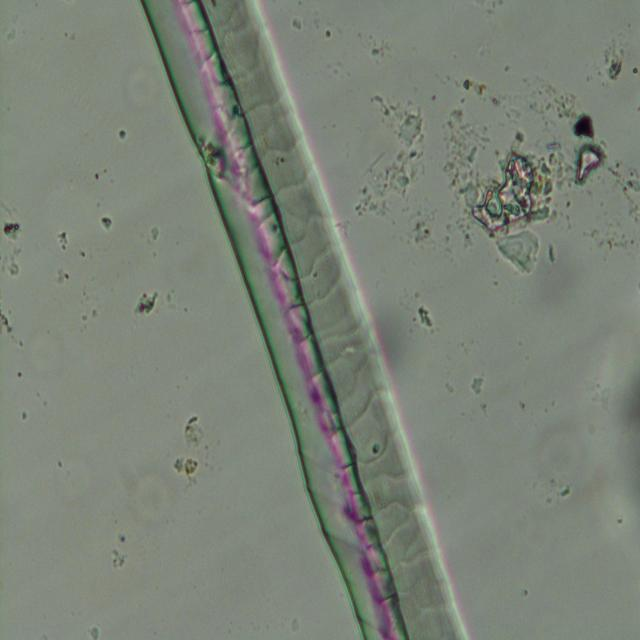Background material: (444, 107, 569, 278), (351, 86, 431, 216), (449, 66, 573, 118), (597, 146, 640, 261), (565, 104, 607, 191), (124, 465, 178, 530), (111, 52, 163, 114), (47, 440, 95, 496), (173, 414, 211, 484), (27, 322, 69, 381), (56, 265, 96, 326), (542, 426, 586, 479), (607, 376, 640, 441), (0, 207, 26, 279), (527, 464, 571, 506), (600, 34, 628, 84), (358, 32, 394, 64), (131, 286, 161, 318), (108, 528, 130, 571), (0, 306, 22, 347), (412, 303, 436, 329), (320, 21, 338, 39), (111, 127, 129, 145), (98, 214, 114, 234), (470, 376, 485, 397), (57, 229, 70, 253), (17, 404, 33, 422), (147, 225, 163, 243), (289, 14, 303, 32), (92, 167, 106, 180)
Hair textile: (177, 2, 469, 638)
